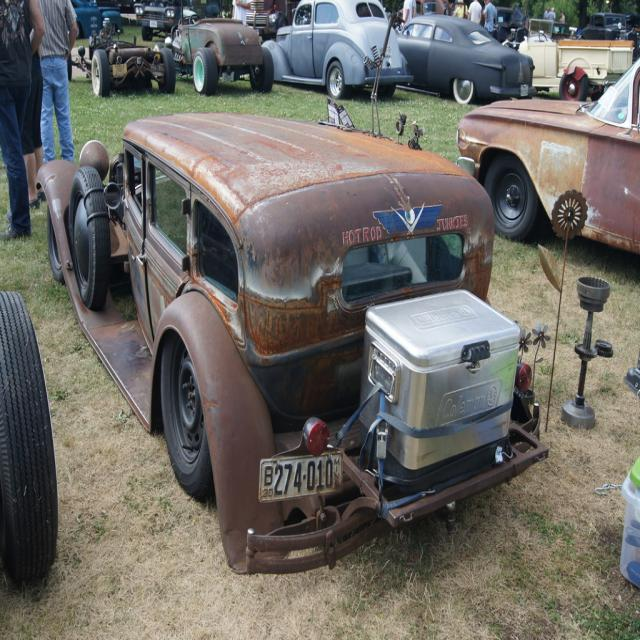car: (33, 117, 553, 579)
